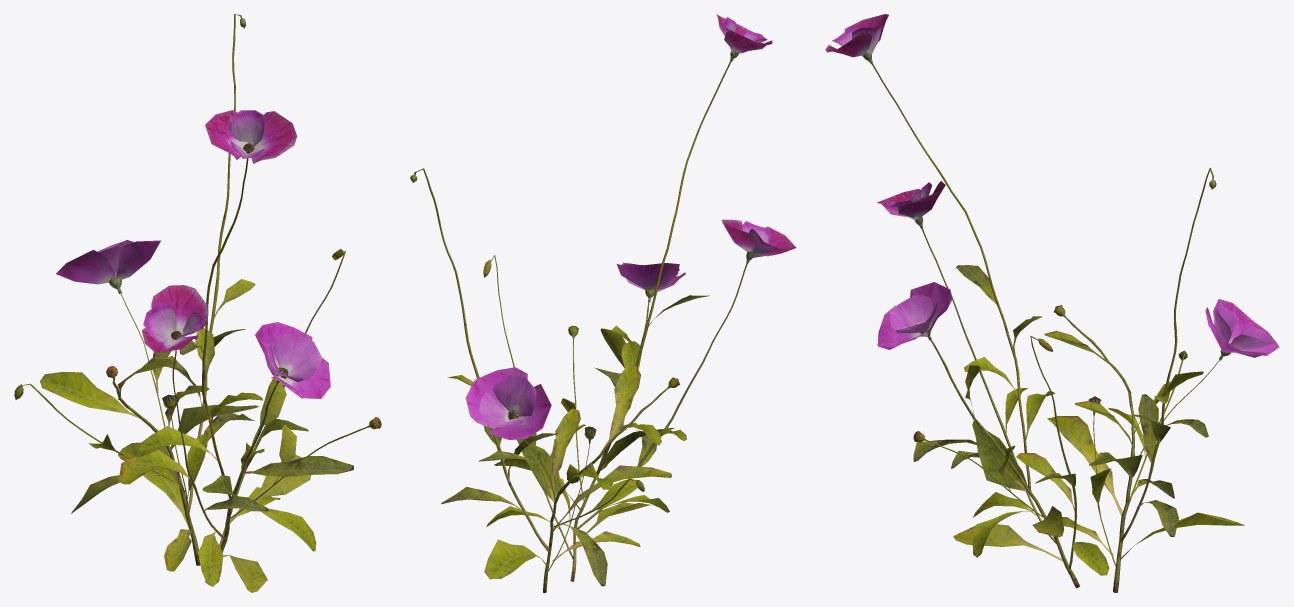
Rendered from Poppy_bush_normal_magenta.glb.
The picture shows the model from 3 angles, left to right: view 1: azimuth 30°, elevation 25°; view 2: azimuth 150°, elevation 25°; view 3: azimuth 270°, elevation 25°; orthographic projection. The views are drawn at different scales.
Parts seen in each view (by area): view 1: bushhhh; view 2: bushhhh; view 3: bushhhh.
Part boxes in pixels (bbox=[...]): bushhhh: bbox=[14, 14, 381, 592]; bushhhh: bbox=[410, 14, 796, 592]; bushhhh: bbox=[825, 14, 1279, 592].
Bounding box in the file's own units: 2.3 × 4.57 × 3.53.
Materials: 1 (1 with a texture image).
